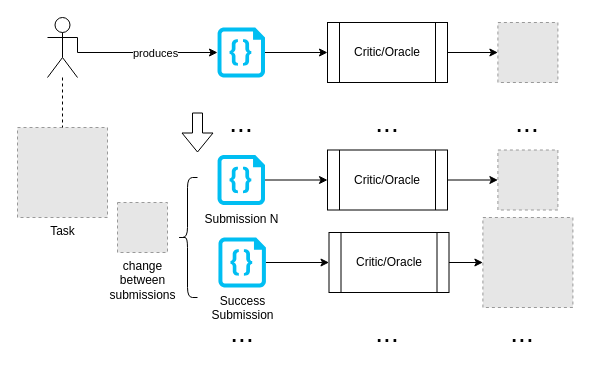
This 591x367 diagram has some shape labels left out. Grey dashed boxes stand in for pictures. Here are the shapes that lost their labels. From the top down, the box of each, then its label:
(46, 16, 78, 78): Student
(217, 27, 264, 77): Submission 1
